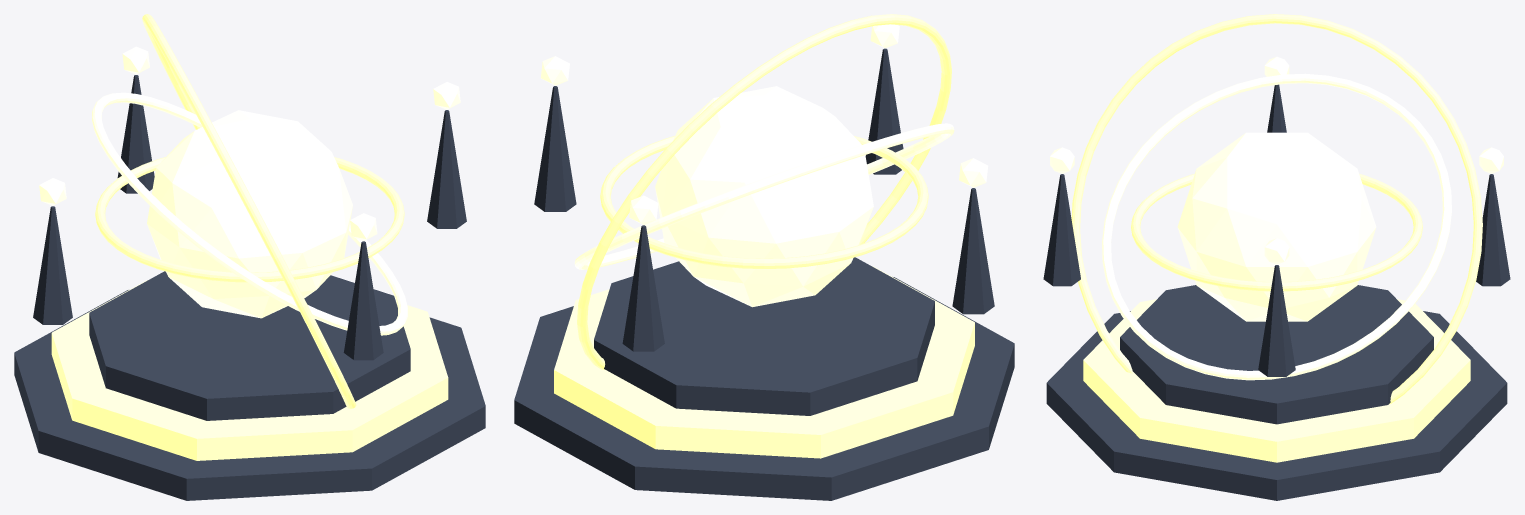
Rendered from gpu-blender-v27.glb.
3 renders of one model, left to right at view 1: azimuth 30°, elevation 25°; view 2: azimuth 150°, elevation 25°; view 3: azimuth 270°, elevation 25°, orthographic. The views are drawn at different scales.
Parts seen in each view (by area): view 1: Cylinder.002, SovereignCore_pod-smart-router, Cylinder, Cylinder.001, Torus.001, Torus.002, Torus, Cone.003, Cone, Cone.002, Cone.001, Icosphere.002 (+3 smaller); view 2: Cylinder.002, SovereignCore_pod-smart-router, Cylinder, Cylinder.001, Torus.002, Torus, Torus.001, Cone.002, Cone.001, Cone, Cone.003, Icosphere (+3 smaller); view 3: SovereignCore_pod-smart-router, Cylinder.002, Cylinder, Cylinder.001, Torus.001, Torus.002, Torus, Cone.003, Cone, Cone.001, Cone.002, Icosphere (+2 smaller).
Boxes of the visible parts, x1=… form: Cylinder.002: x1=89, y1=271, x2=410, y2=420; SovereignCore_pod-smart-router: x1=147, y1=110, x2=352, y2=318; Cylinder: x1=14, y1=290, x2=485, y2=500; Cylinder.001: x1=51, y1=280, x2=448, y2=460; Torus.001: x1=92, y1=92, x2=407, y2=335; Torus.002: x1=142, y1=14, x2=356, y2=408; Torus: x1=95, y1=157, x2=404, y2=282; Cone.003: x1=343, y1=241, x2=383, y2=360; Cone: x1=427, y1=110, x2=466, y2=228; Cone.002: x1=33, y1=206, x2=72, y2=324; Cone.001: x1=117, y1=75, x2=154, y2=193; Icosphere.002: x1=39, y1=178, x2=66, y2=205; Cylinder.002: x1=594, y1=257, x2=934, y2=415; SovereignCore_pod-smart-router: x1=655, y1=86, x2=873, y2=307; Cylinder: x1=514, y1=277, x2=1014, y2=500; Cylinder.001: x1=554, y1=266, x2=974, y2=458; Torus.002: x1=577, y1=14, x2=951, y2=369; Torus: x1=600, y1=136, x2=928, y2=268; Torus.001: x1=574, y1=123, x2=954, y2=269; Cone.002: x1=952, y1=188, x2=994, y2=314; Cone.001: x1=622, y1=225, x2=664, y2=351; Cone: x1=534, y1=86, x2=576, y2=211; Cone.003: x1=865, y1=48, x2=903, y2=174; Icosphere: x1=540, y1=56, x2=569, y2=85; SovereignCore_pod-smart-router: x1=1177, y1=132, x2=1376, y2=321; Cylinder.002: x1=1120, y1=285, x2=1433, y2=424; Cylinder: x1=1046, y1=311, x2=1507, y2=500; Cylinder.001: x1=1083, y1=299, x2=1470, y2=462; Torus.001: x1=1102, y1=73, x2=1451, y2=380; Torus.002: x1=1071, y1=14, x2=1482, y2=403; Torus: x1=1131, y1=174, x2=1422, y2=291; Cone.003: x1=1043, y1=174, x2=1080, y2=286; Cone: x1=1258, y1=265, x2=1295, y2=376; Cone.001: x1=1476, y1=174, x2=1510, y2=286; Cone.002: x1=1267, y1=84, x2=1286, y2=132; Icosphere: x1=1264, y1=238, x2=1289, y2=264.
Size of the model in its own units: 4.41 by 3.72 by 4.46.
